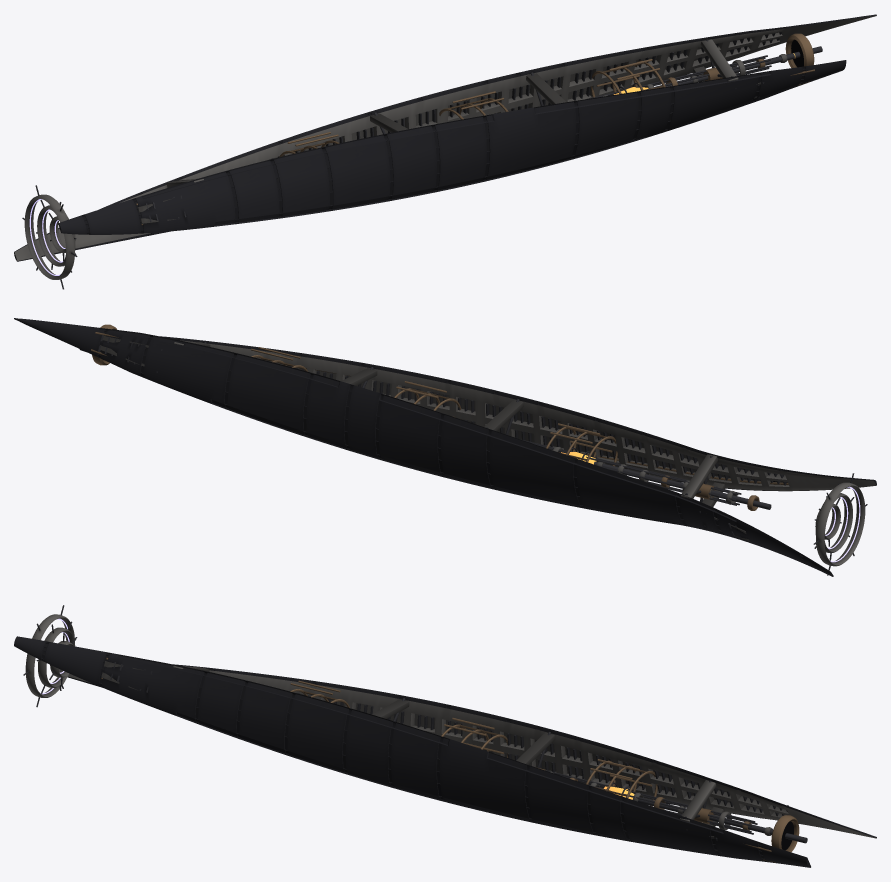
File: ship_1i.glb
3 renders of one model, top to bottom at view 1: azimuth 30°, elevation 25°; view 2: azimuth 150°, elevation 25°; view 3: azimuth 330°, elevation 25°, orthographic. The views are drawn at different scales.
Visible parts, largest first — view 1: LOD0; view 2: LOD0; view 3: LOD0.
Boxes of the visible parts, left/top/right/bottom form: LOD0: left=14, top=14, right=876, bottom=289; LOD0: left=14, top=318, right=876, bottom=576; LOD0: left=14, top=605, right=876, bottom=867.
Size of what is drawn, in the model's own units: 4 by 0.3864 by 0.4401.
